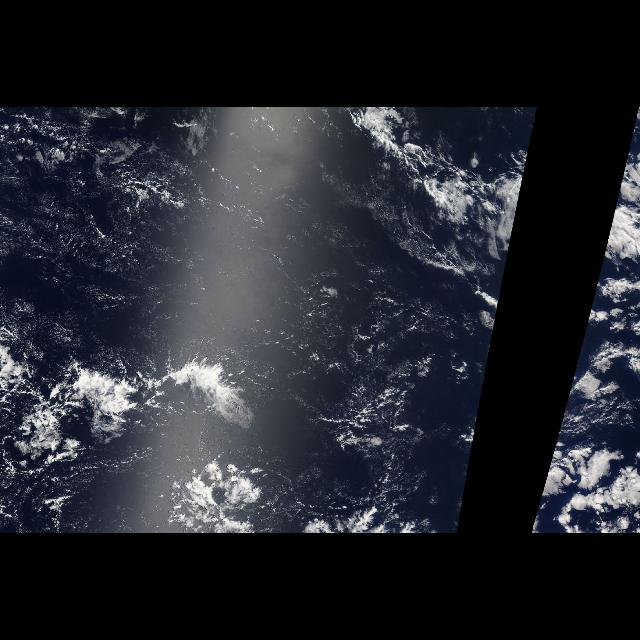Flower: (1, 302, 448, 534)
Sugar: (9, 115, 274, 262)
